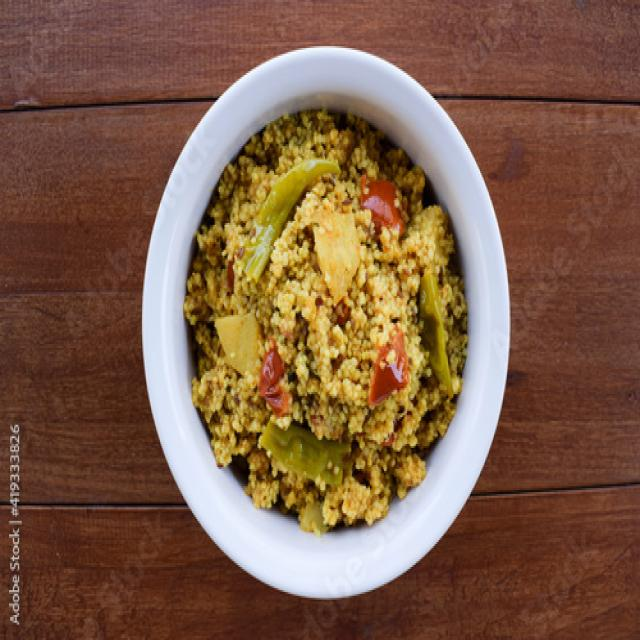UPMA: (179, 114, 459, 522)
